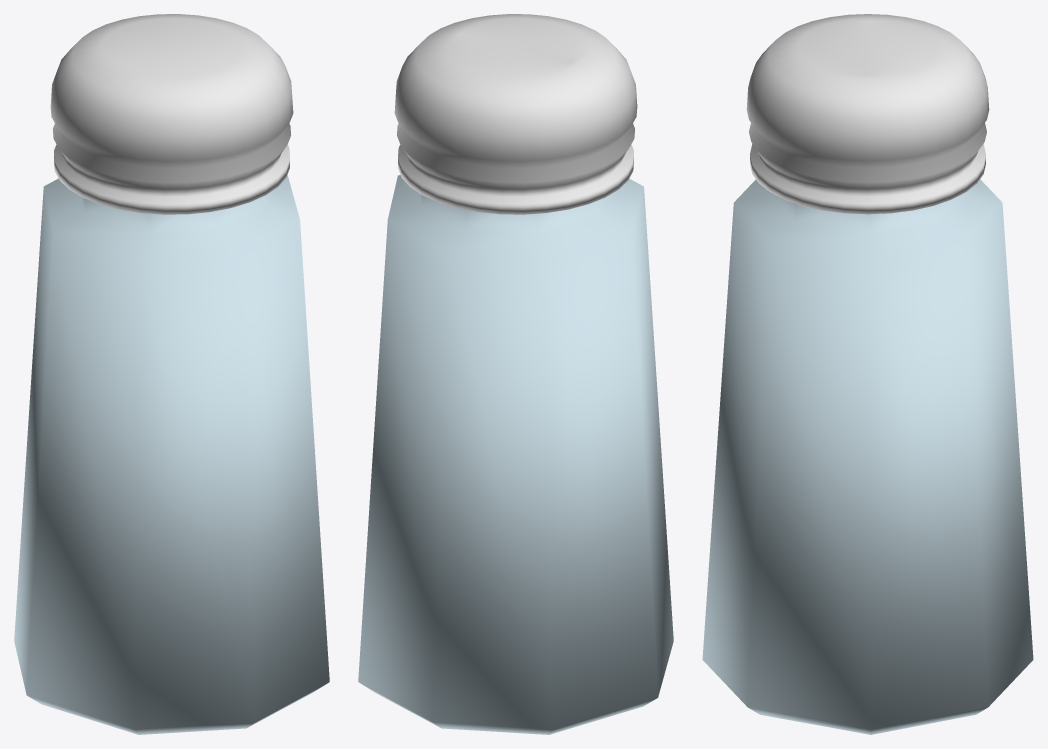
The model's file is pepperShaker.fbx.
The picture shows the model from 3 angles, left to right: view 1: azimuth 30°, elevation 25°; view 2: azimuth 150°, elevation 25°; view 3: azimuth 270°, elevation 25°; orthographic projection.
Parts seen in each view (by area): view 1: Shaker, Top; view 2: Shaker, Top; view 3: Shaker, Top.
Part boxes in pixels (x1,y1,x2,y2): Shaker: [14, 175, 329, 734]; Top: [50, 14, 293, 214]; Shaker: [358, 175, 673, 734]; Top: [394, 14, 637, 214]; Shaker: [702, 179, 1033, 734]; Top: [746, 14, 989, 214].
Bounding box in the file's own units: 200 × 416 × 200.
